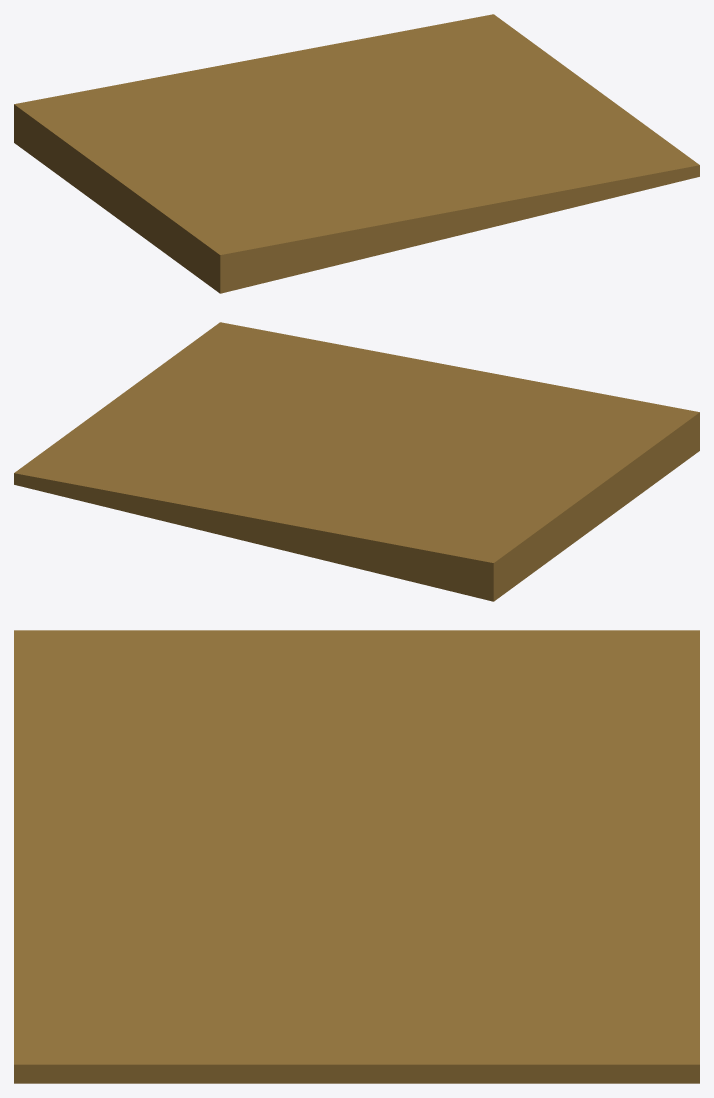
Rendered from hood_front.glb.
The picture shows the model from 3 angles, top to bottom: view 1: azimuth 30°, elevation 25°; view 2: azimuth 150°, elevation 25°; view 3: azimuth 270°, elevation 25°; orthographic projection. The views are drawn at different scales.
Parts seen in each view (by area): view 1: hood_front; view 2: hood_front; view 3: hood_front.
Part boxes in pixels (x1,y1,x2,y2): hood_front: (14,14,699,293); hood_front: (14,322,699,601); hood_front: (14,630,699,1083).
Bounding box in the file's own units: 0.65 × 0.05 × 0.484.
